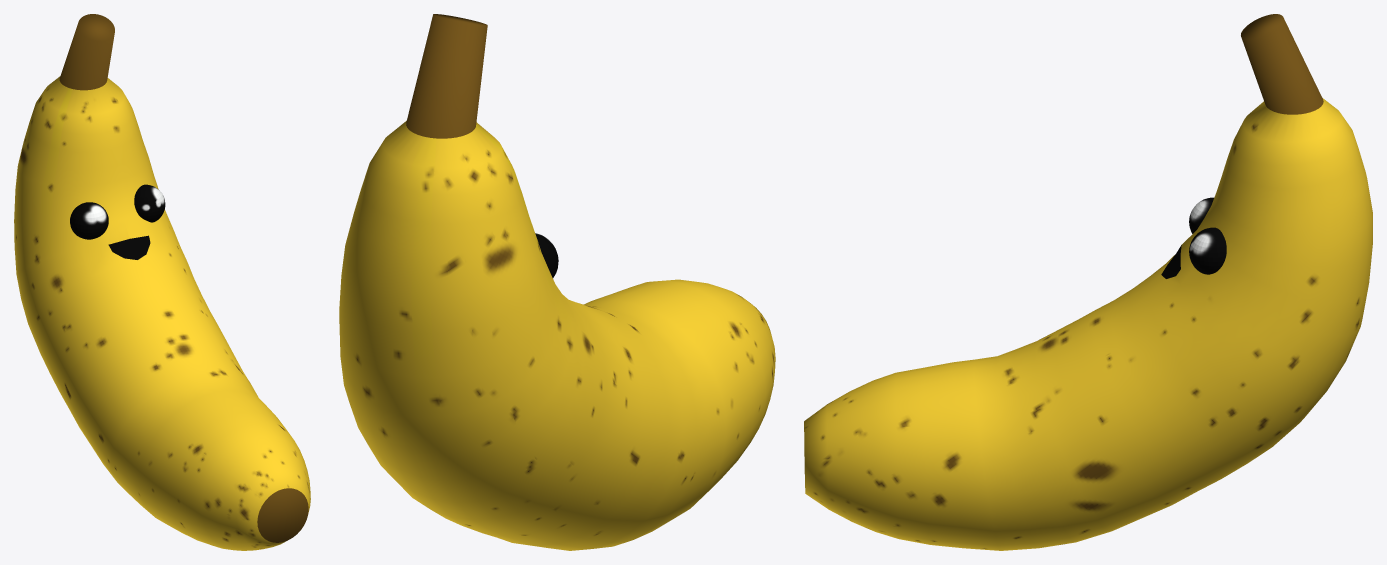
Rendered from Banana.fbx.
3 renders of one model, left to right at view 1: azimuth 30°, elevation 25°; view 2: azimuth 150°, elevation 25°; view 3: azimuth 270°, elevation 25°, orthographic. The views are drawn at different scales.
Parts seen in each view (by area): view 1: Cylinder, Sphere, Sphere.001; view 2: Cylinder; view 3: Cylinder, Sphere.001.
Part boxes in pixels (bbox=[...]): Cylinder: bbox=[14, 14, 310, 550]; Sphere: bbox=[70, 202, 108, 239]; Sphere.001: bbox=[134, 184, 165, 222]; Cylinder: bbox=[339, 14, 775, 550]; Cylinder: bbox=[804, 14, 1372, 550]; Sphere.001: bbox=[1189, 227, 1226, 274].
Bounding box in the file's own units: 201 × 549 × 540.
Materials: 3 (3 with a texture image).
